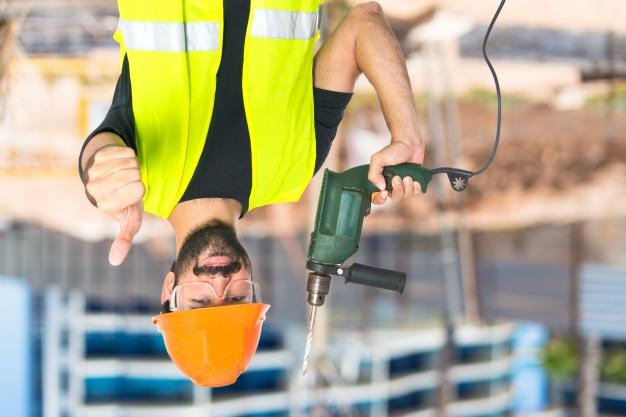thumbsdown: (86, 145, 146, 266)
